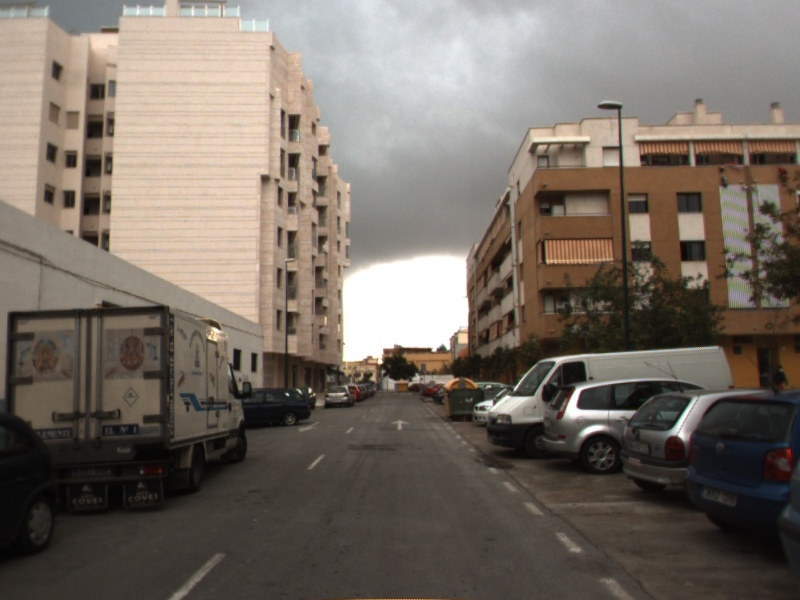STRAIGHT: (388, 417, 413, 432)
